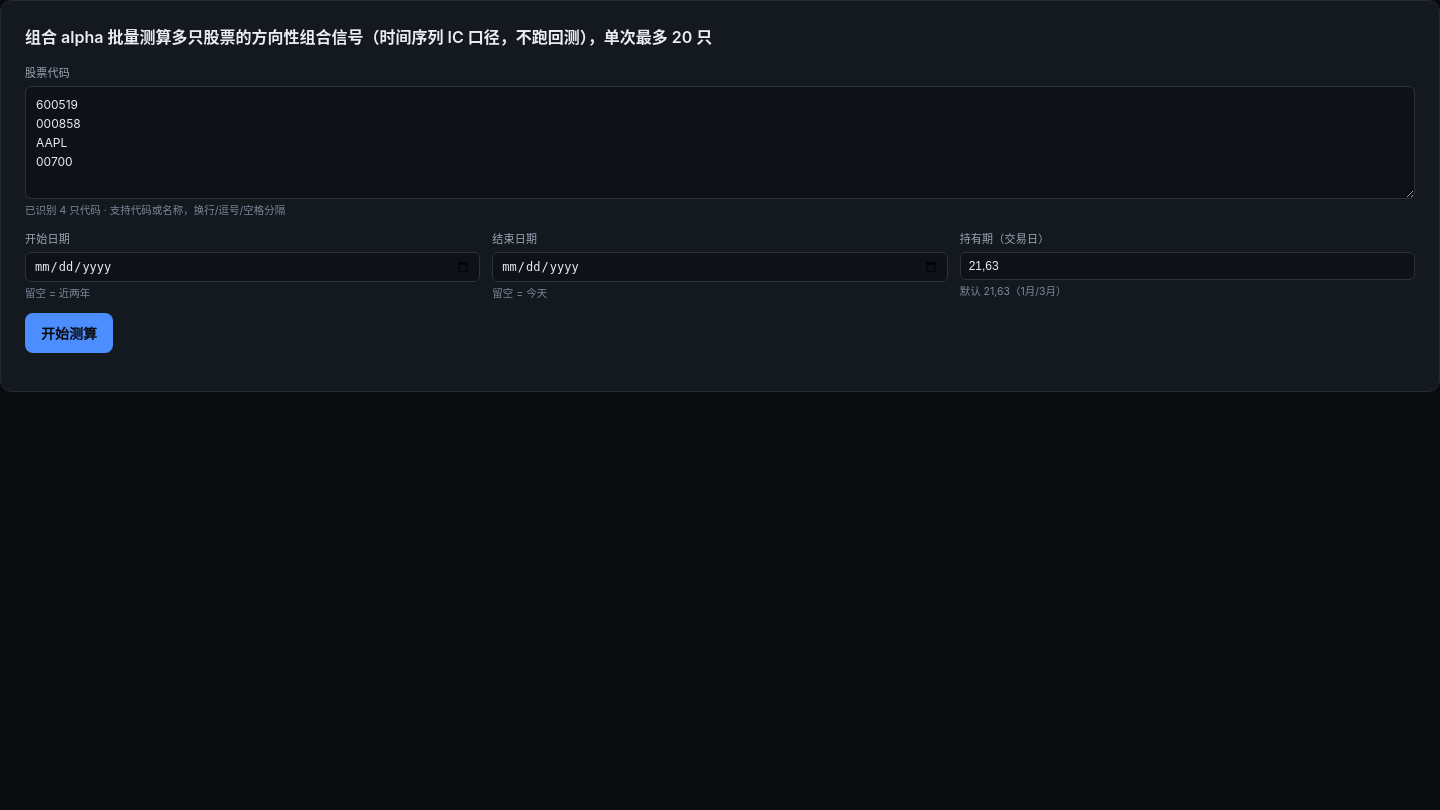
CompositeBatchPanel —— 结果渲染 › 失败行只占一行并显示中文失败原因
Click the button "开始测算" at (69, 333), box [25,313,113,353]
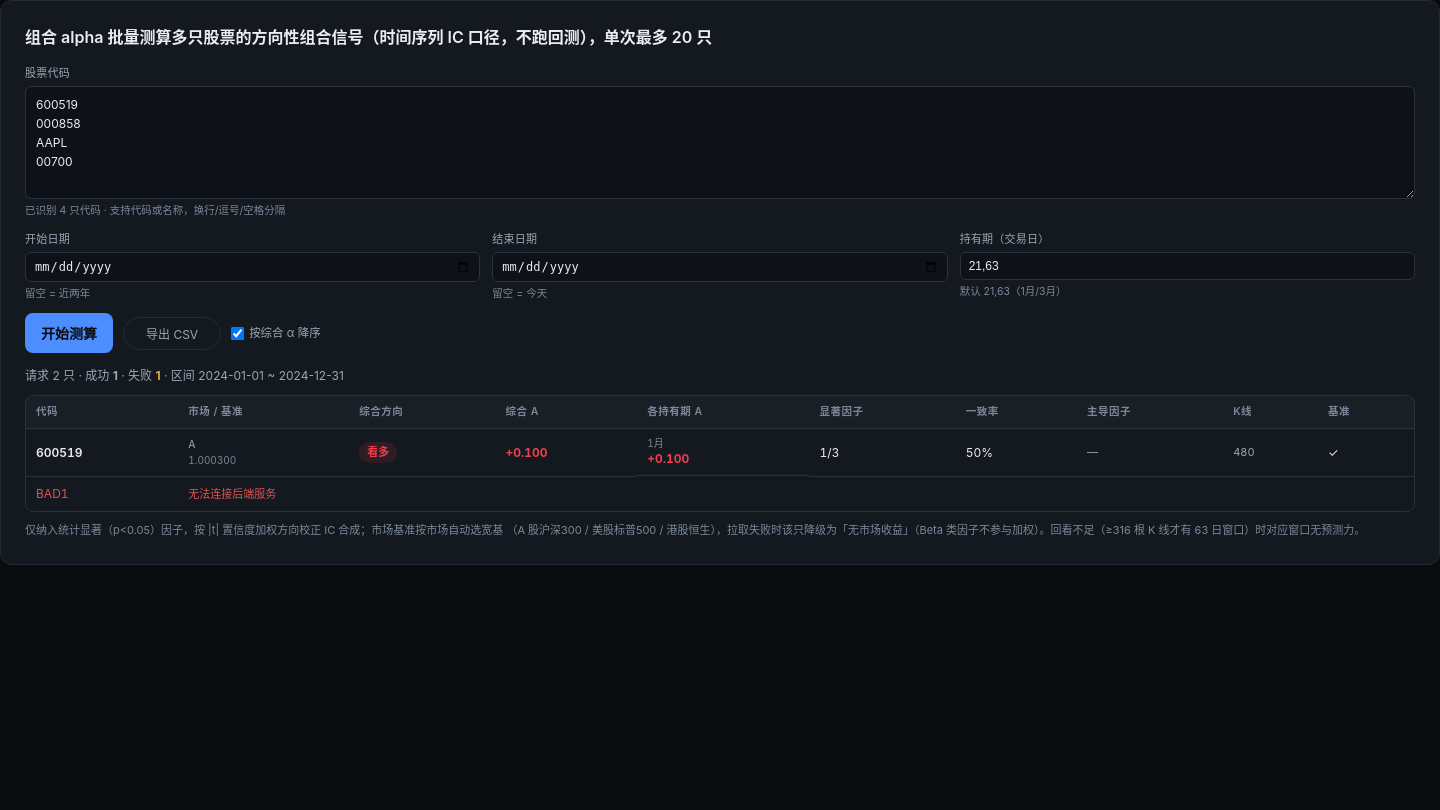
expect the table is shown: met, box [26,396,1414,511]
expect the text "无法连接后端服务" is shown: met, box [178,476,1414,511]
expect the element with class "batch-summary" shows "失败 1": met, box [25,368,344,383]
